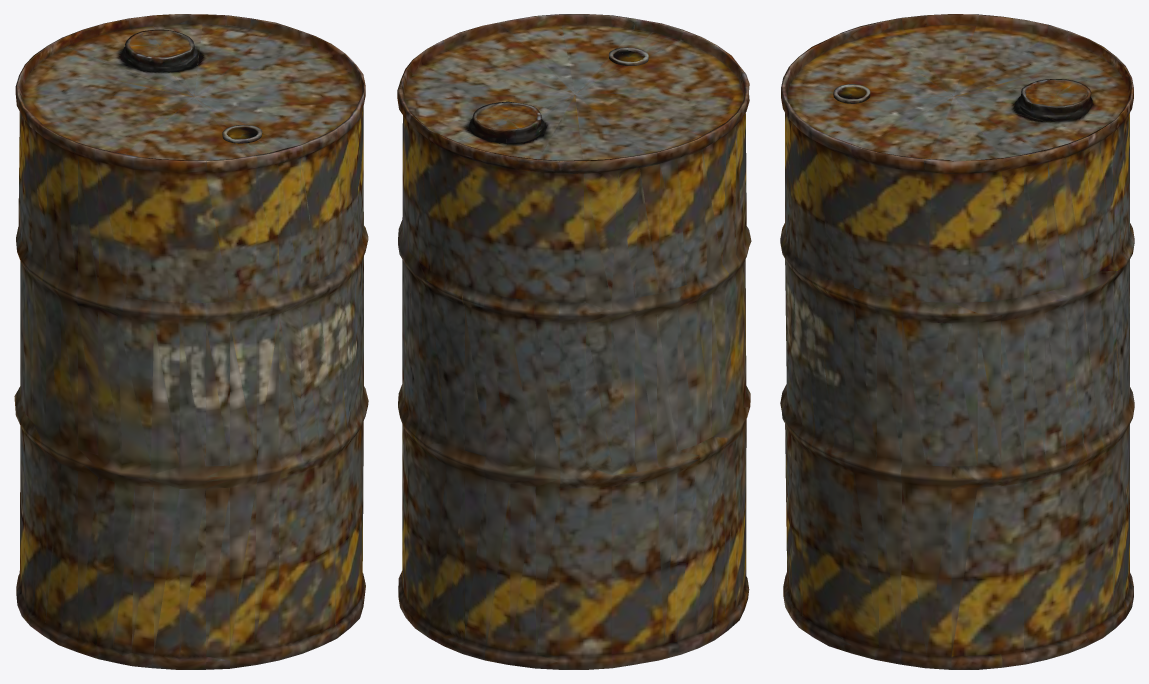
File: barrel.glb
3 renders of one model, left to right at view 1: azimuth 30°, elevation 25°; view 2: azimuth 150°, elevation 25°; view 3: azimuth 270°, elevation 25°, orthographic.
Visible parts, largest first — view 1: geometry_0; view 2: geometry_0; view 3: geometry_0.
Boxes of the visible parts, left/top/right/bottom form: geometry_0: left=14, top=14, right=368, bottom=669; geometry_0: left=397, top=14, right=751, bottom=669; geometry_0: left=780, top=14, right=1134, bottom=669.
Size of the model in its own units: 0.5947 by 0.9507 by 0.5958.
Materials: 1 (1 with a texture image).
